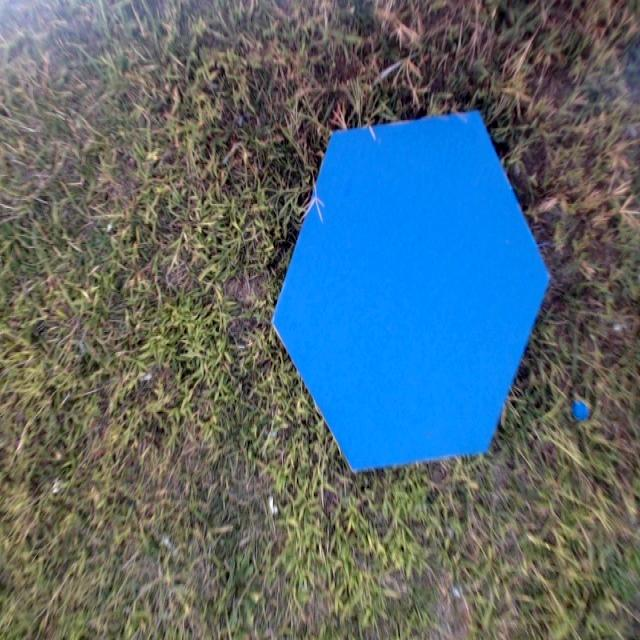blue_hexagon: (270, 112, 553, 474)
